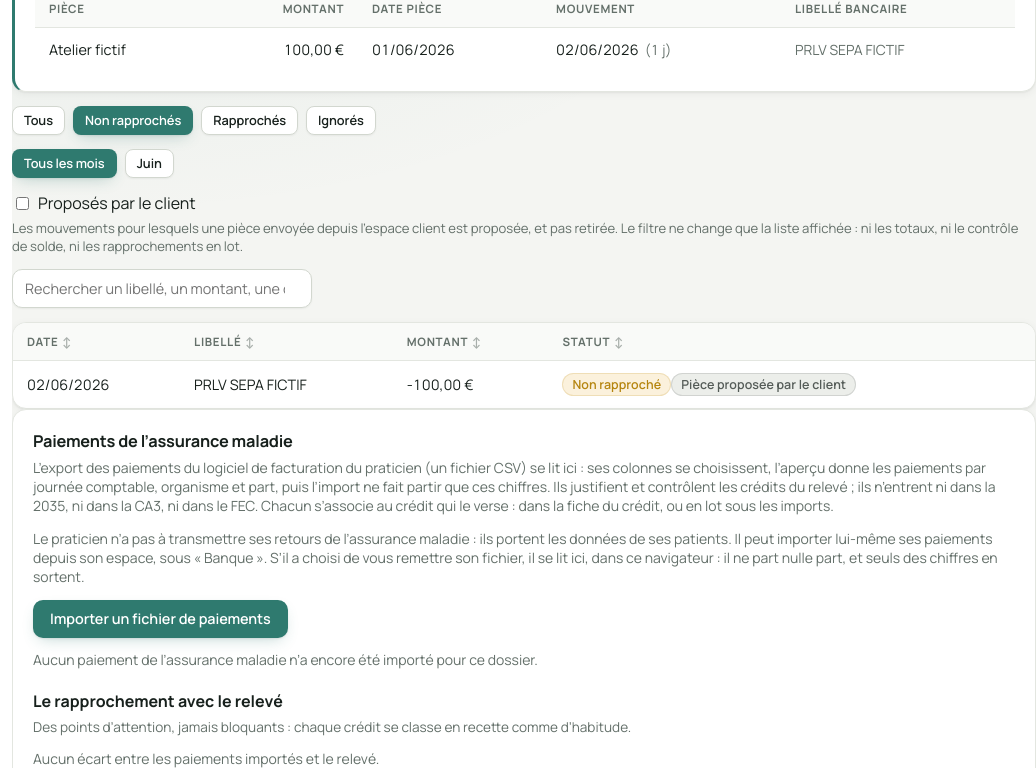
Scenario: la pièce proposée par le client, en tête de la fiche › nommée, son auteur reconnu parmi les accès, avant ce que le rapprochement propose de lui-même
(page scrolled)
Click the text "PRLV SEPA FICTIF" in the row of "Pièce proposée par le client": (286, 384) [180,360,393,408]
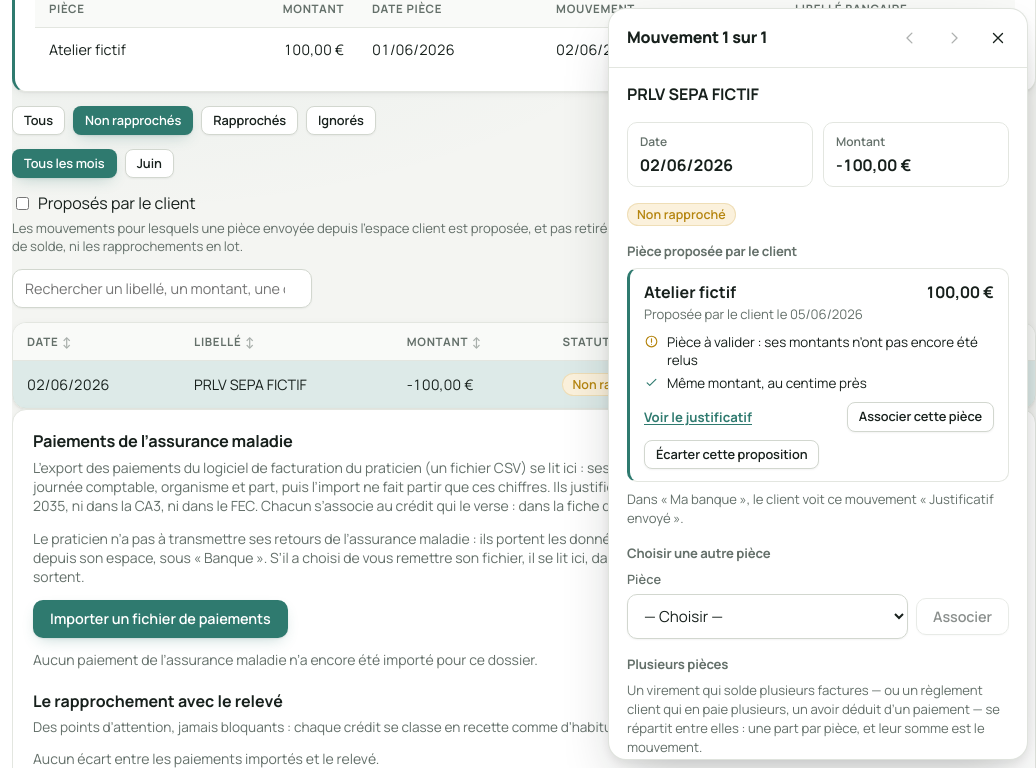
Check: the text "Proposée par le client le 05/06/2026" is shown, box [644,305,863,323]
Check: the text "Pièce à valider : ses montants n’ont pas encore été relus" is shown, box [667,333,994,369]
Check: the text "Même montant, au centime près" is shown, box [667,374,867,392]
